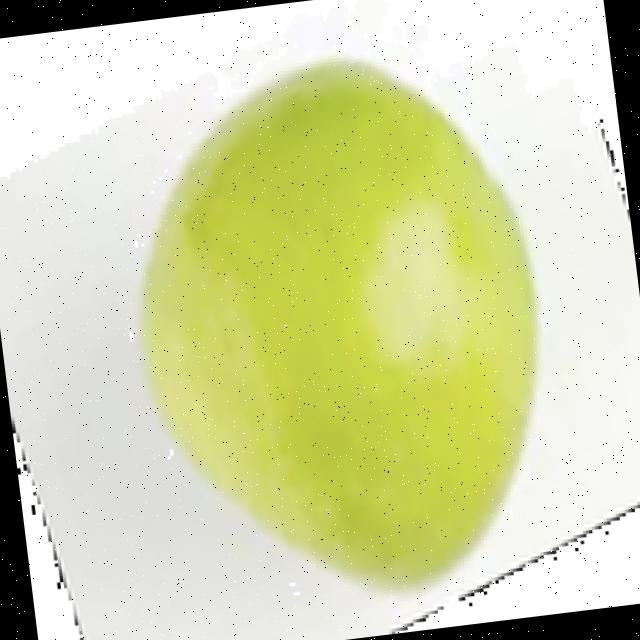apple: (128, 65, 545, 581)
